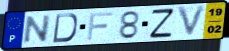8: (119, 10, 141, 40)
D: (51, 12, 79, 43)
F: (85, 11, 114, 42)
N: (21, 14, 53, 45)
V: (175, 4, 208, 39)
Z: (149, 7, 176, 40)
